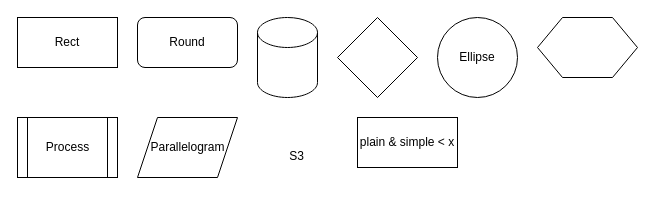
Image size: 655x213. Some labels were removed from this diagram. The shapes that lost their labels are listed below. From the top down, each one's box as (x1, y1, x2, y2) in pixels, then its label:
(256, 16, 318, 98): Cyl
(336, 16, 418, 98): Diamond
(536, 16, 638, 78): Hex
